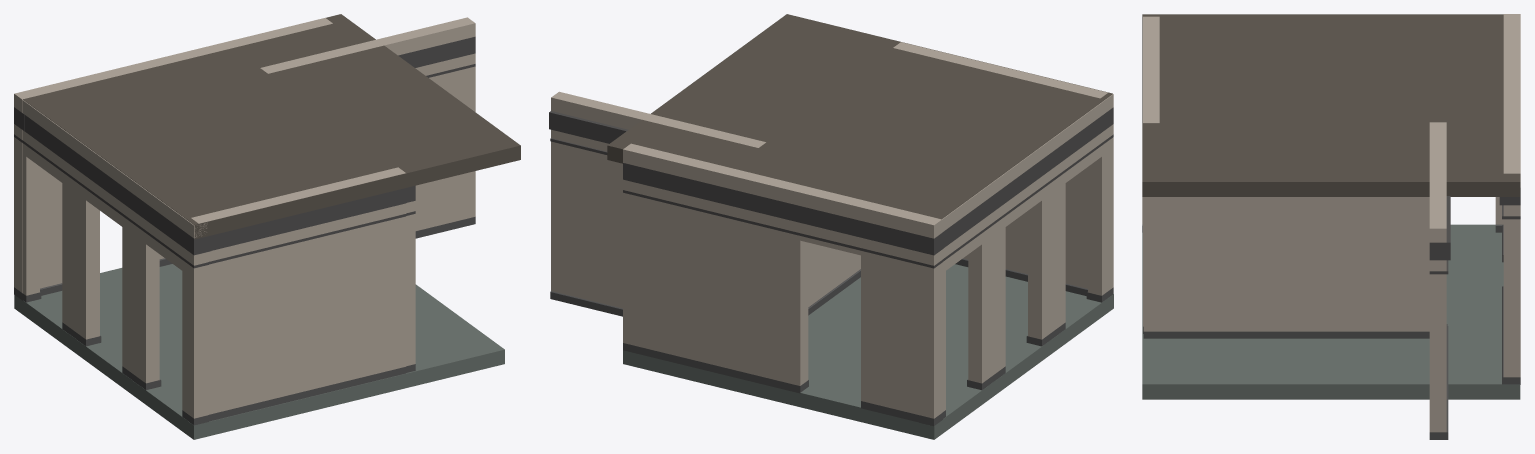
File: C99_Livingroom.fbx
3 views of the same model, side by side, from view 1: azimuth 30°, elevation 25°; view 2: azimuth 150°, elevation 25°; view 3: azimuth 270°, elevation 25° (orthographic). The views are drawn at different scales.
Visible parts, largest first — view 1: pCube82, pCube75, pCube76, pCube1; view 2: pCube82, pCube75, pCube1, pCube76; view 3: pCube82, pCube75, pCube1, pCube76.
Part boxes in pixels (x1=…): pCube82: x1=14, y1=17, x2=475, y2=425; pCube75: x1=23, y1=45, x2=417, y2=239; pCube76: x1=246, y1=14, x2=520, y2=185; pCube1: x1=14, y1=264, x2=504, y2=439; pCube82: x1=549, y1=42, x2=1113, y2=426; pCube75: x1=718, y1=39, x2=1112, y2=219; pCube1: x1=623, y1=264, x2=1113, y2=439; pCube76: x1=607, y1=14, x2=889, y2=164; pCube82: x1=1142, y1=14, x2=1520, y2=439; pCube75: x1=1142, y1=14, x2=1503, y2=128; pCube1: x1=1142, y1=224, x2=1520, y2=399; pCube76: x1=1142, y1=128, x2=1520, y2=196.
Size of the model in its own units: 6.05 by 2.97 by 4.5.
